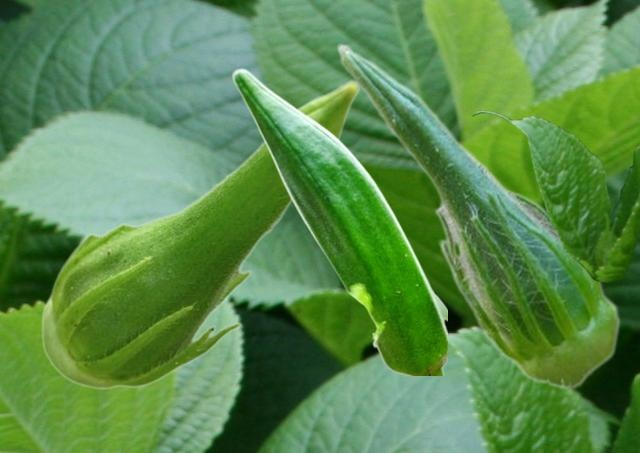okra: (40, 79, 360, 389), (336, 42, 620, 388), (231, 68, 446, 374)
